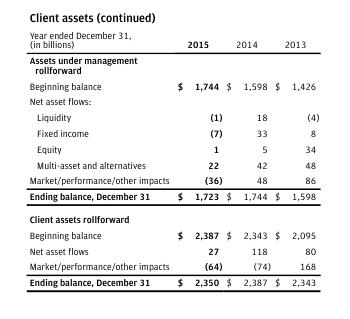table: (28, 29, 318, 287)
table column: (28, 29, 172, 287), (172, 29, 223, 287), (223, 29, 272, 287), (272, 29, 318, 287)
table column header: (28, 29, 318, 52)
table projected row header: (28, 52, 318, 77), (28, 207, 318, 226), (28, 93, 318, 109)
table row: (28, 52, 318, 77), (28, 29, 318, 52), (28, 188, 318, 207), (28, 207, 318, 226), (28, 77, 318, 93), (28, 93, 318, 109), (28, 124, 318, 140), (28, 140, 318, 156), (28, 156, 318, 172), (28, 172, 318, 188), (28, 226, 318, 242), (28, 242, 318, 258), (28, 258, 318, 274), (28, 109, 318, 124), (28, 274, 318, 287)
